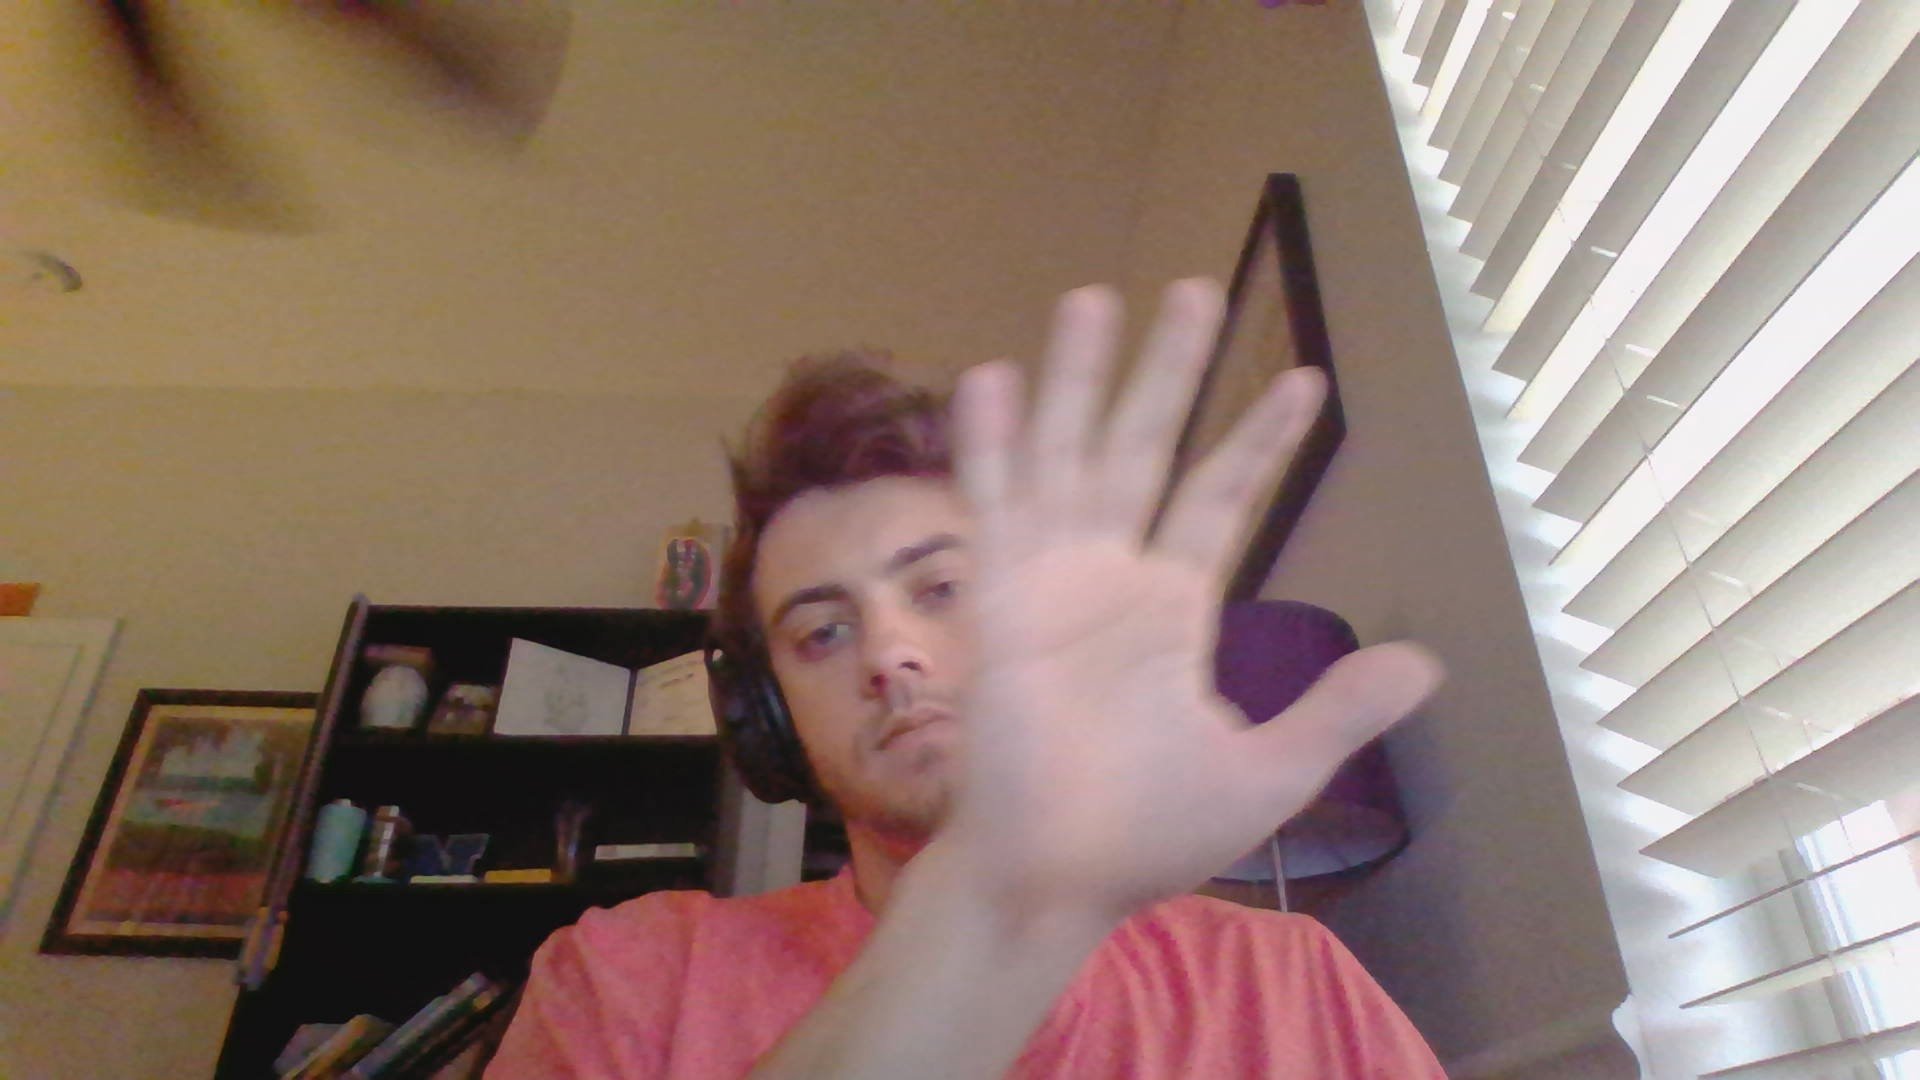Right Palm Up: (927, 272, 1451, 916)
